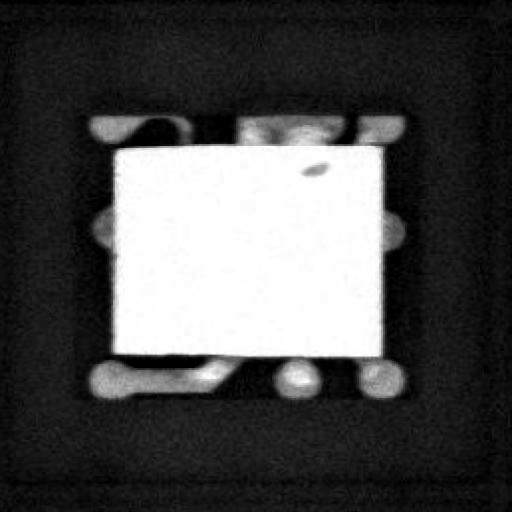DIE_INK: (282, 164, 314, 182)
